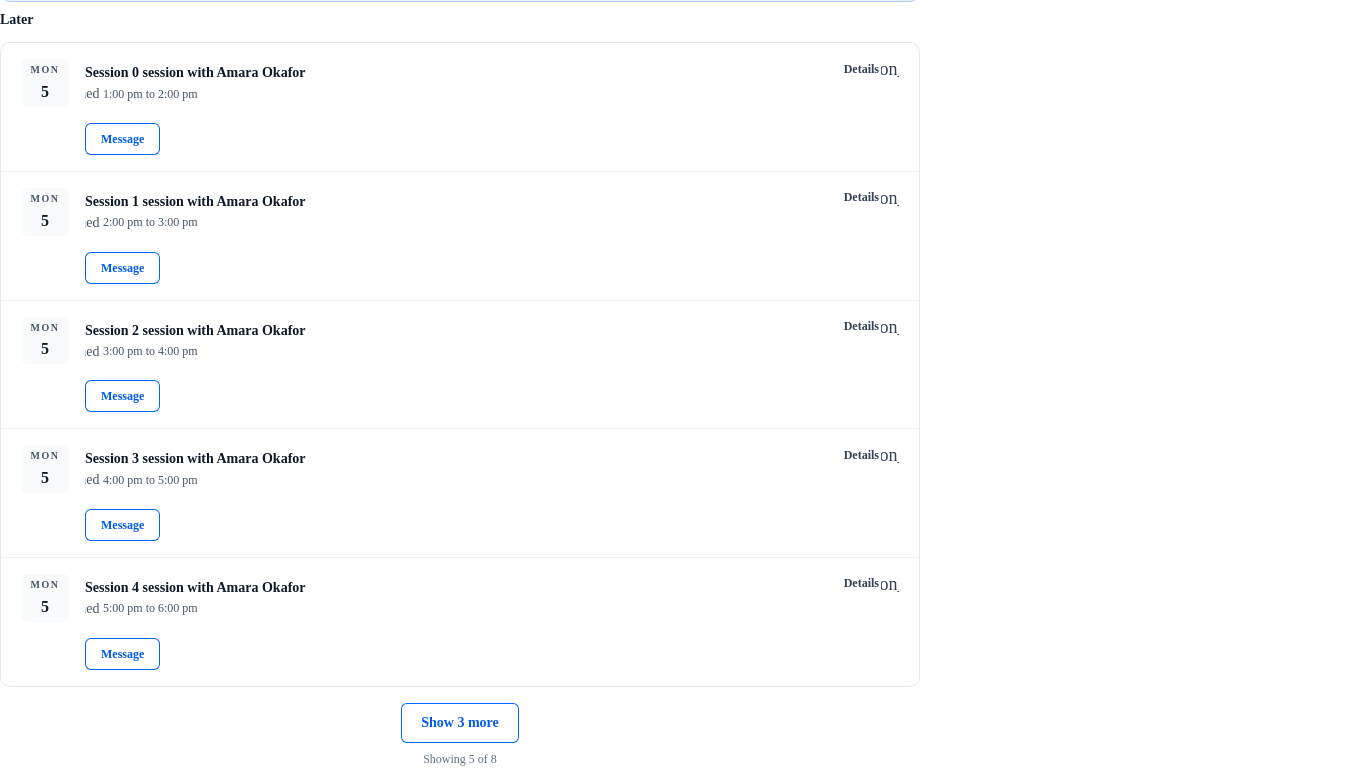
it: Upcoming › reveals five at a time
(page scrolled)
Expected: the text "Showing 5 of 8" is shown, [423,751,497,767]
Click the button "Show 3 more" at [460, 723], box [401,703,519,743]
(page scrolled)
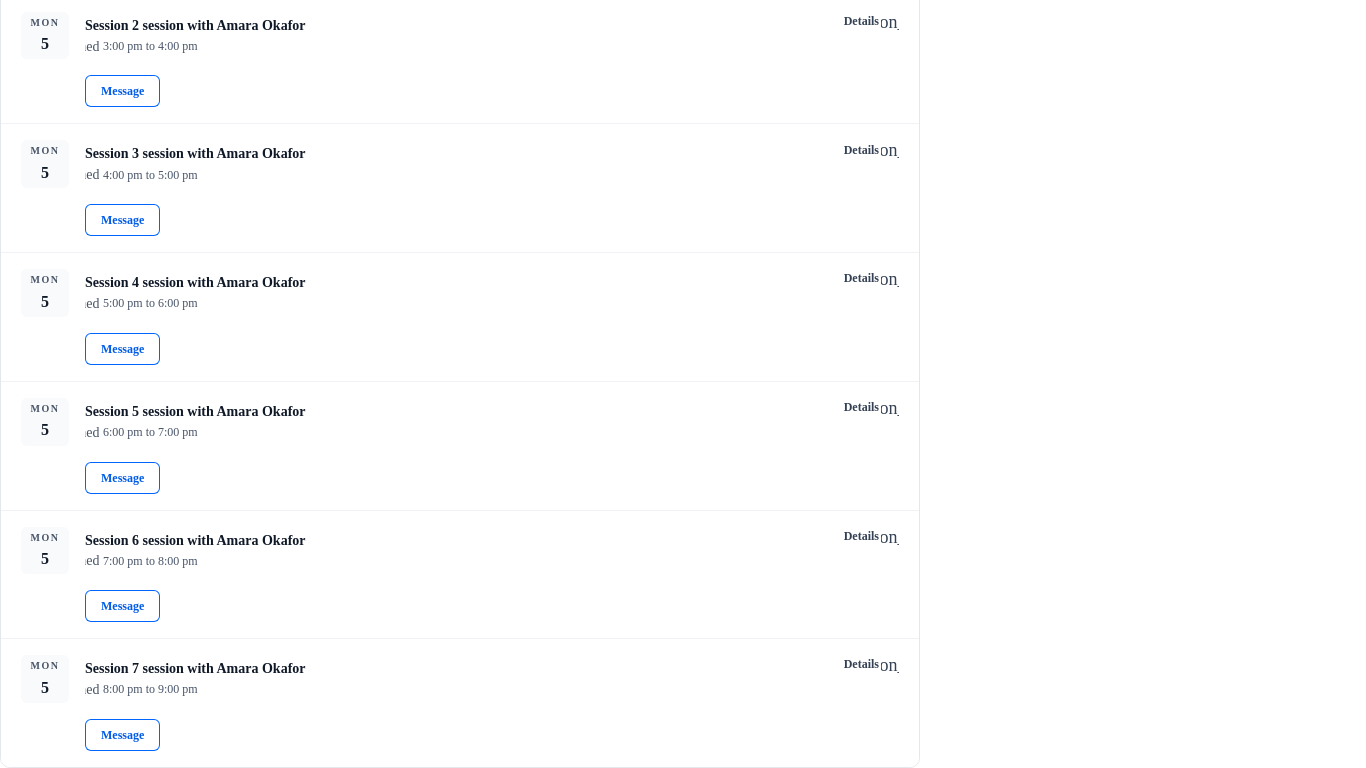
Expected: the text "Showing" is gone
Expected: the text "Session 7 session with Amara Okafor" is shown, [85,659,306,680]
